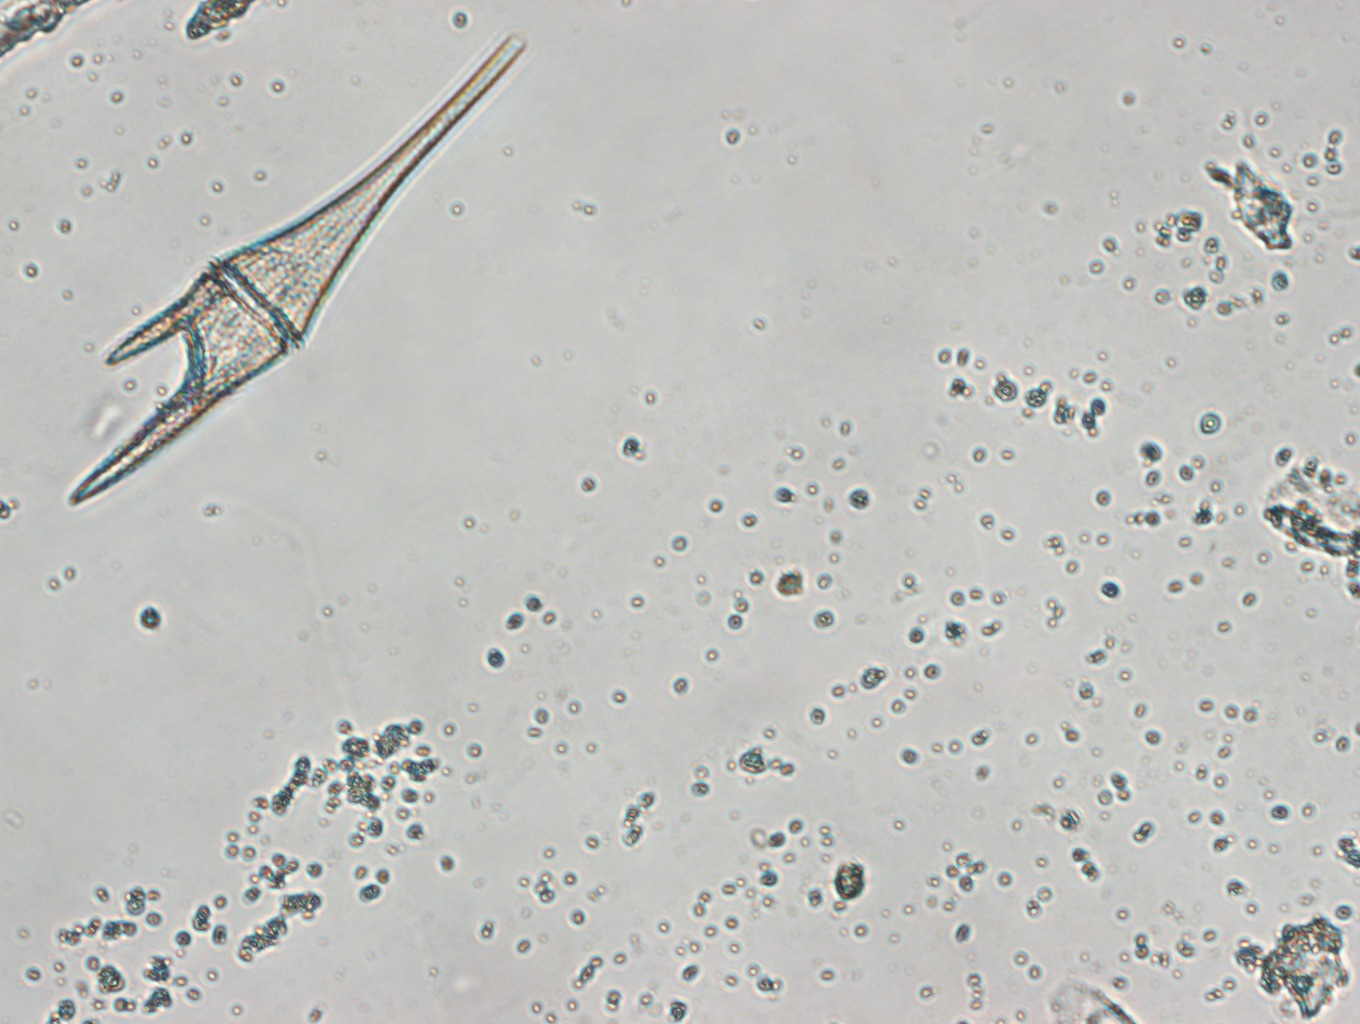ceratium furca: (65, 29, 534, 511)
